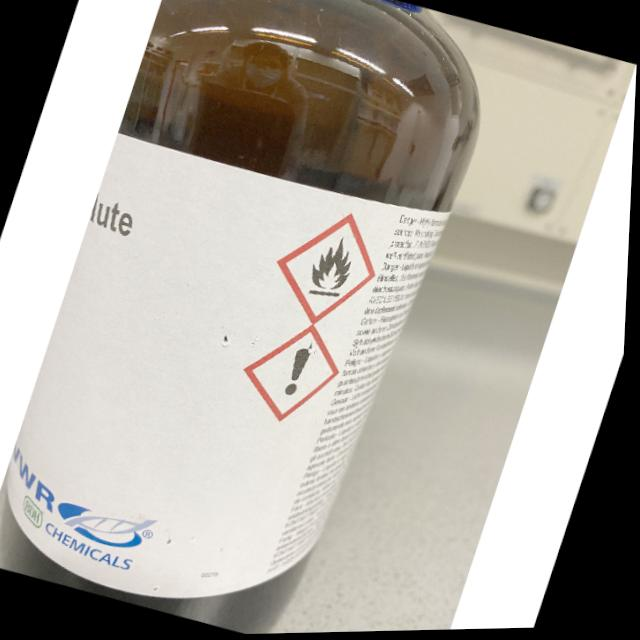flammable: (258, 195, 394, 338)
health-ozone layer hazard: (227, 306, 357, 435)
